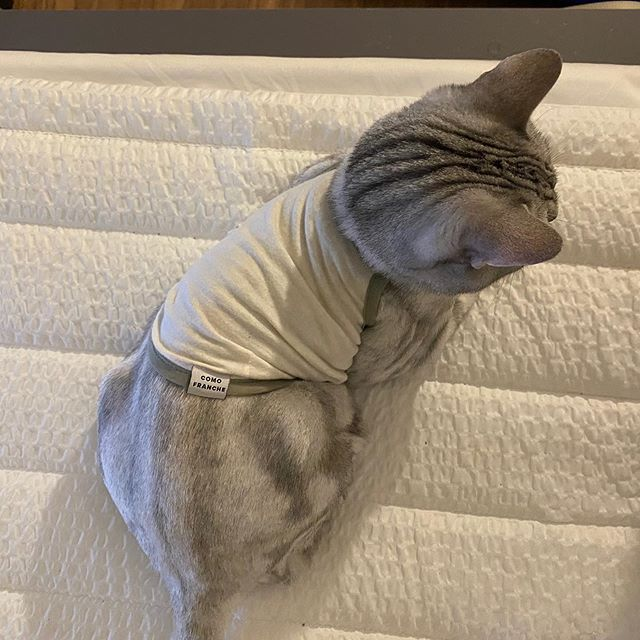cat: (339, 45, 575, 309)
